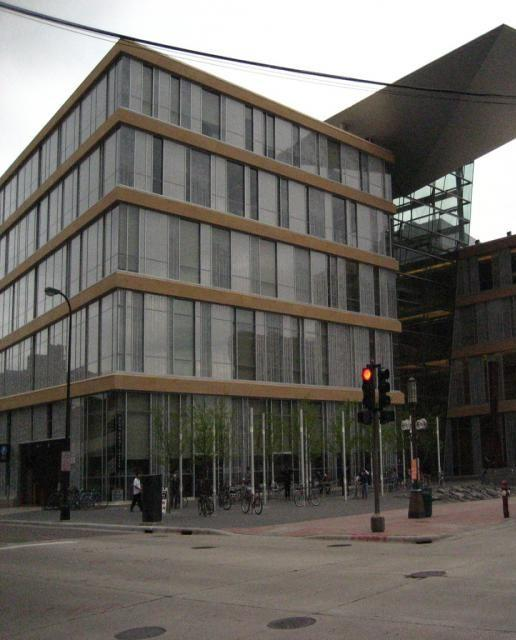red_light: (362, 367, 375, 407)
